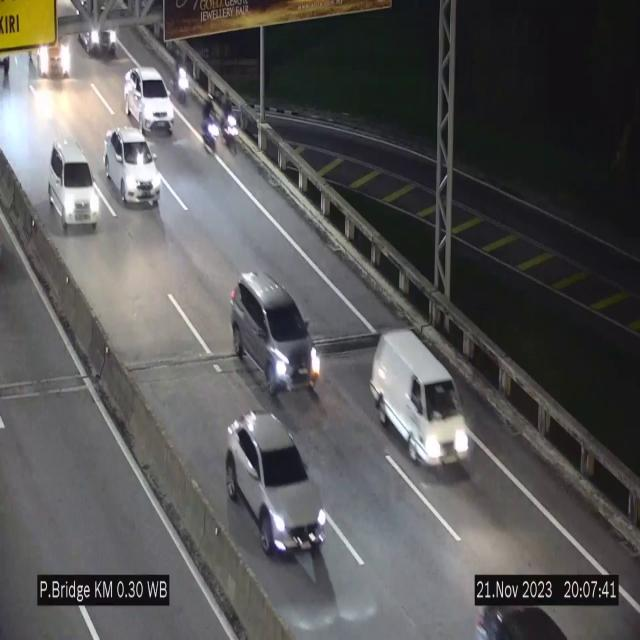Car: (225, 411, 325, 554), (371, 330, 471, 466), (230, 270, 318, 400), (460, 597, 576, 640), (49, 140, 100, 230), (104, 128, 161, 205), (124, 67, 174, 134), (78, 12, 118, 58), (30, 38, 69, 84)
Motorcycle: (220, 88, 242, 156), (200, 93, 220, 157), (176, 54, 194, 105)
